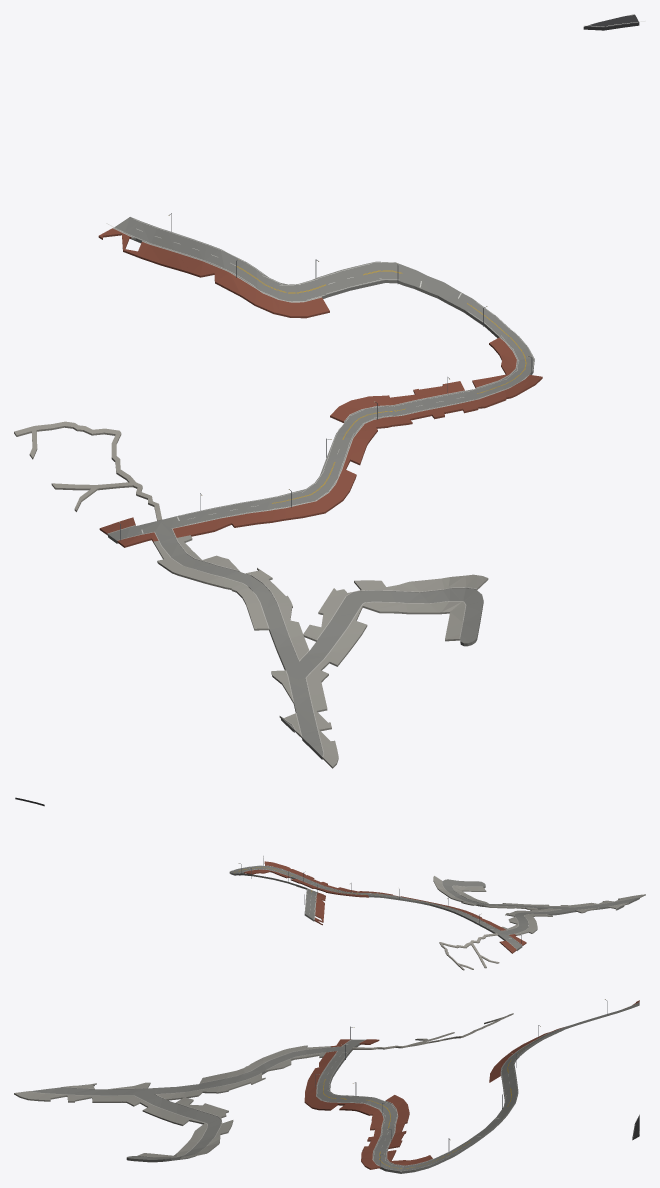
The model's file is 17-109448-59484.f8330ecc.glb.
3 views of the same model, one above another, from view 1: azimuth 30°, elevation 25°; view 2: azimuth 150°, elevation 25°; view 3: azimuth 270°, elevation 25° (orthographic). The views are drawn at different scales.
Bounding box in the file's own units: 296 × 117 × 292.
